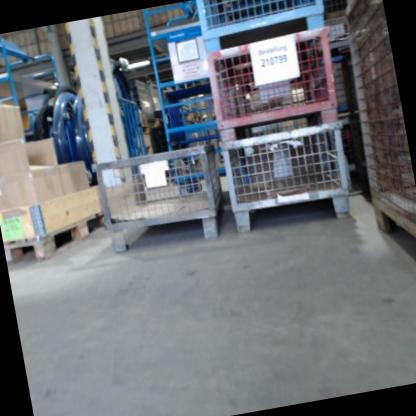pallet: (0, 208, 112, 267)
stillage: (332, 0, 416, 281), (197, 17, 350, 142), (209, 117, 362, 240), (85, 137, 234, 259), (191, 0, 333, 46)
